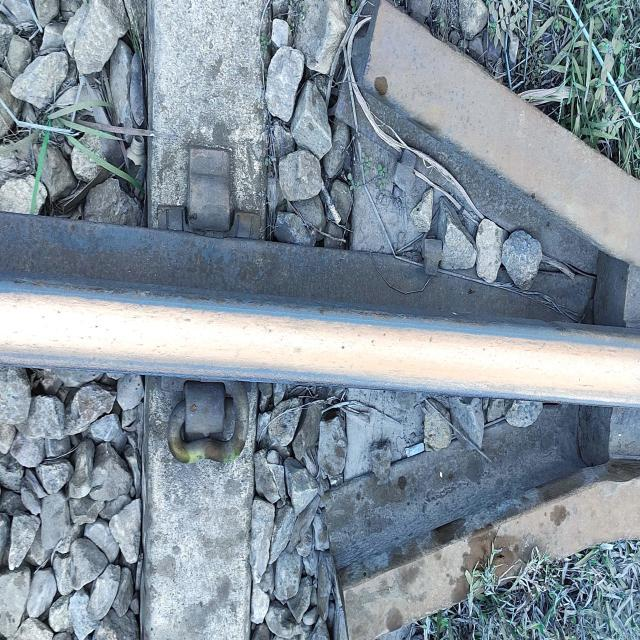Good Fasteners: (167, 380, 249, 463)
Missing Fastener: (175, 126, 257, 253)
